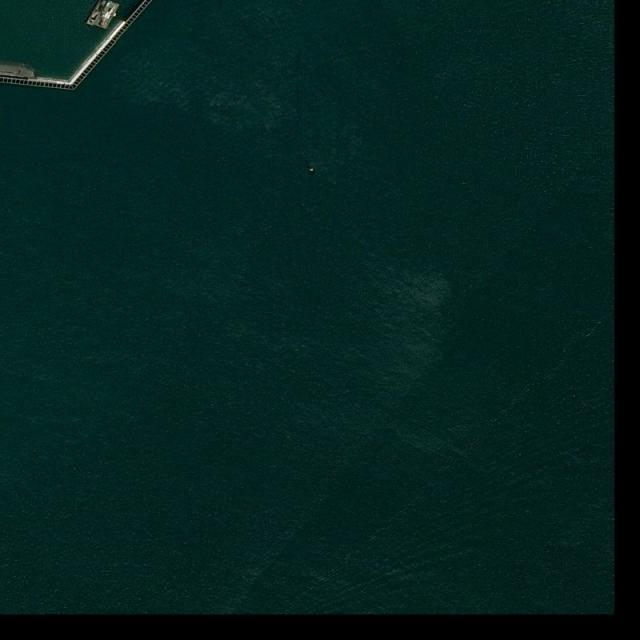ship: (308, 166, 314, 173)
